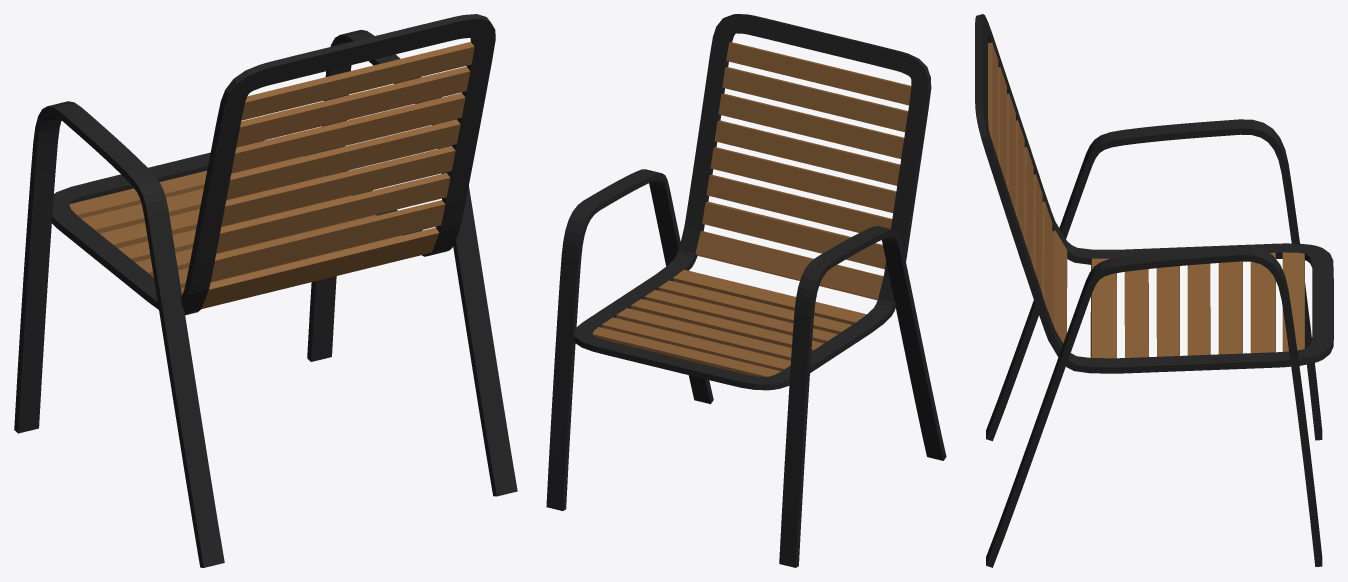
The model's file is bg_chair2_lp.fbx.
3 views of the same model, side by side, from view 1: azimuth 30°, elevation 25°; view 2: azimuth 150°, elevation 25°; view 3: azimuth 270°, elevation 25° (orthographic). The views are drawn at different scales.
Visible parts, largest first — view 1: chair2; view 2: chair2; view 3: chair2.
Boxes of the visible parts, <box> form: chair2: <box>14,14,517,567</box>; chair2: <box>546,14,946,567</box>; chair2: <box>975,14,1333,567</box>.
Size of the model in its own units: 272 by 409 by 304.
